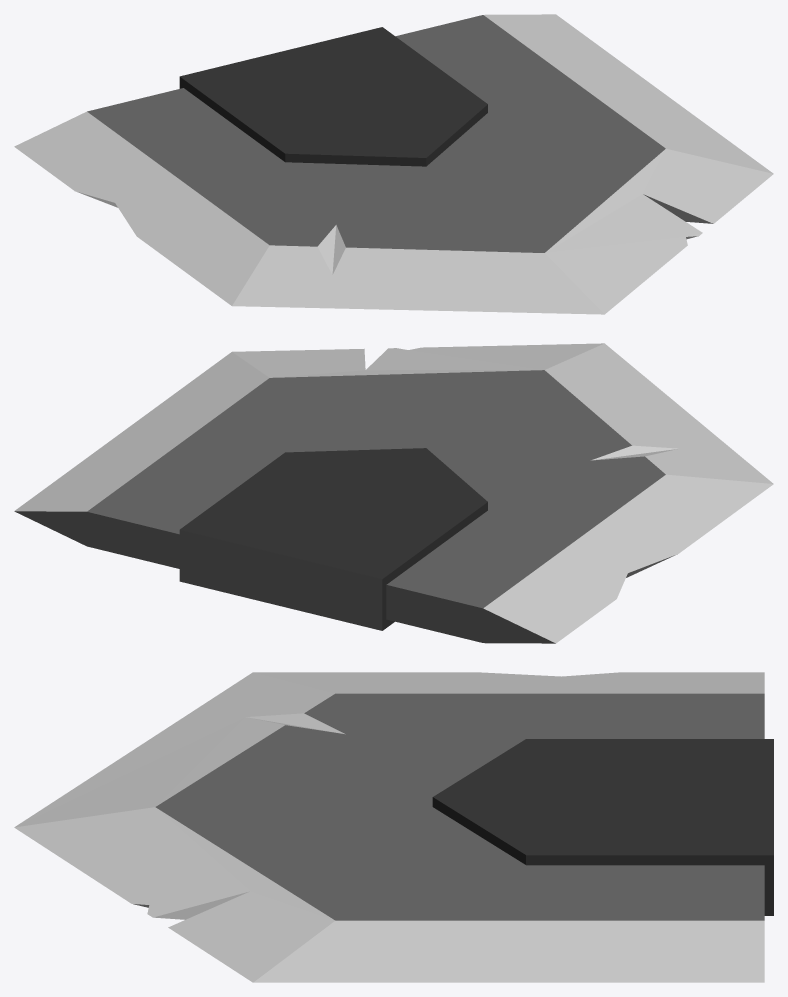
The model's file is Obstacle_KnifeWall_Knife.fbx.
3 renders of one model, top to bottom at view 1: azimuth 30°, elevation 25°; view 2: azimuth 150°, elevation 25°; view 3: azimuth 270°, elevation 25°, orthographic. The views are drawn at different scales.
Visible parts, largest first — view 1: Obstacle_KnifeWall_Knife; view 2: Obstacle_KnifeWall_Knife; view 3: Obstacle_KnifeWall_Knife.
Part boxes in pixels (x1,y1,x2,y2): Obstacle_KnifeWall_Knife: (14,14,773,314); Obstacle_KnifeWall_Knife: (14,343,773,643); Obstacle_KnifeWall_Knife: (14,672,773,982).
Size of the model in its own units: 593 by 54.17 by 613.
